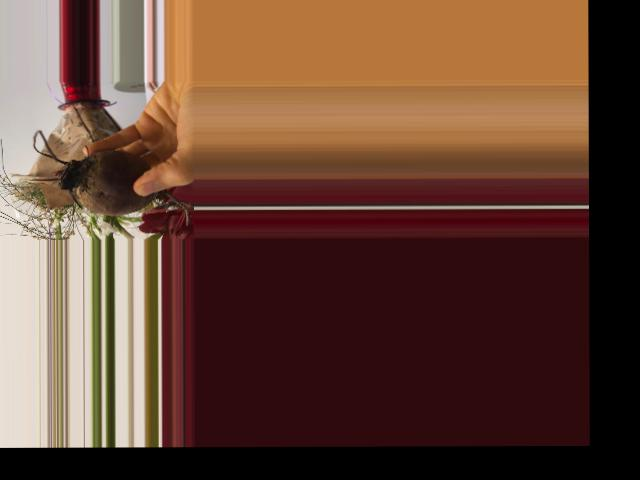beet: (32, 129, 188, 225)
